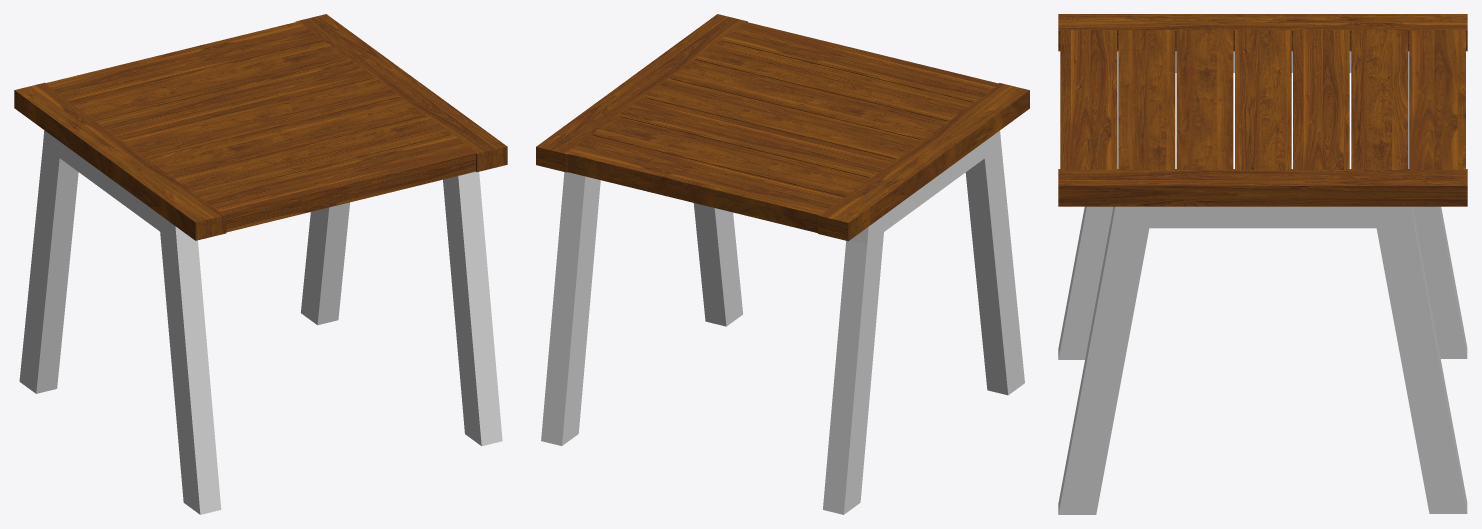
Rendered from GemmySideTable.glb.
3 renders of one model, left to right at view 1: azimuth 30°, elevation 25°; view 2: azimuth 150°, elevation 25°; view 3: azimuth 270°, elevation 25°, orthographic. The views are drawn at different scales.
Parts seen in each view (by area): view 1: Cube.001, Cube.004, Cube.002, Cube.005, Cube.003; view 2: Cube.001, Cube.004, Cube.002, Cube.005, Cube.003; view 3: Cube.001, Cube.002, Cube.003, Cube.004, Cube.005.
Boxes of the visible parts, box(x1,y1,x2,y2) form: Cube.001: box(44, 21, 477, 232); Cube.004: box(19, 130, 221, 514); Cube.002: box(301, 171, 502, 446); Cube.005: box(14, 82, 226, 240); Cube.003: box(295, 14, 507, 171); Cube.001: box(566, 21, 999, 232); Cube.004: box(823, 130, 1024, 514); Cube.002: box(541, 172, 742, 445); Cube.005: box(818, 83, 1029, 241); Cube.003: box(536, 14, 747, 172); Cube.001: box(1060, 30, 1465, 169); Cube.002: box(1058, 206, 1467, 514); Cube.003: box(1058, 169, 1467, 206); Cube.004: box(1058, 51, 1467, 359); Cube.005: box(1058, 14, 1467, 51).
Size of the model in its own units: 0.4473 by 0.4023 by 0.45.
2 materials, 1 textured.
